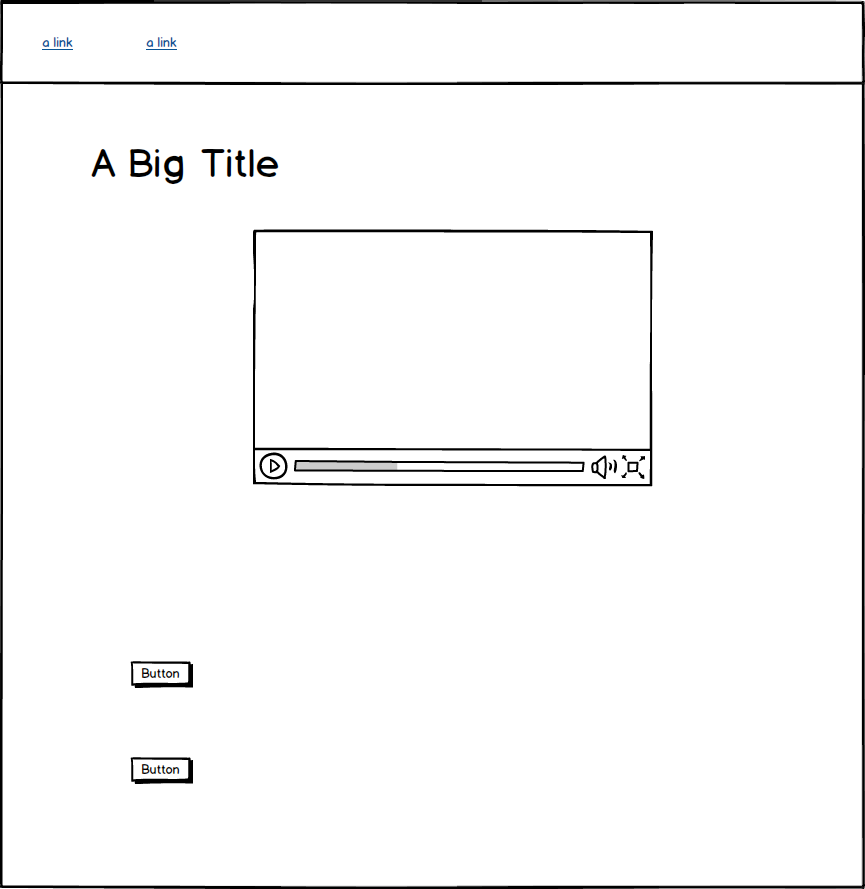button: (124, 655, 199, 692), (126, 751, 199, 788)
h1: (82, 142, 295, 186)
navlink: (84, 559, 128, 585), (140, 32, 187, 55), (201, 563, 241, 586), (37, 35, 84, 54)
video: (247, 225, 661, 496)
